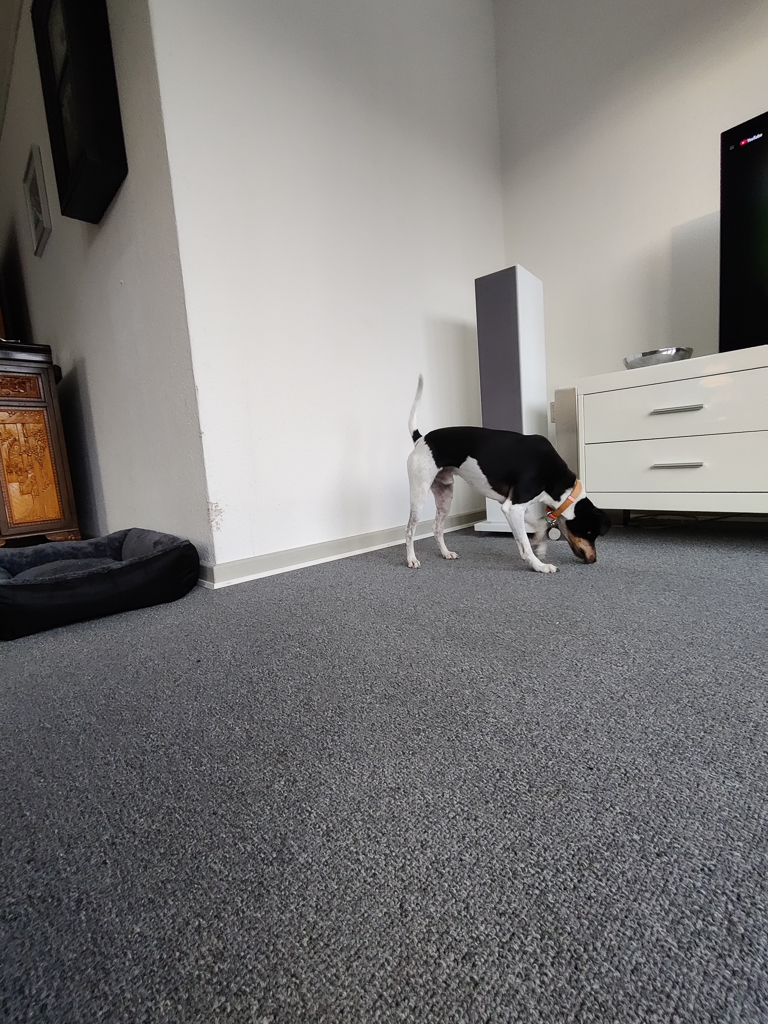Dog: (391, 350, 617, 594)
